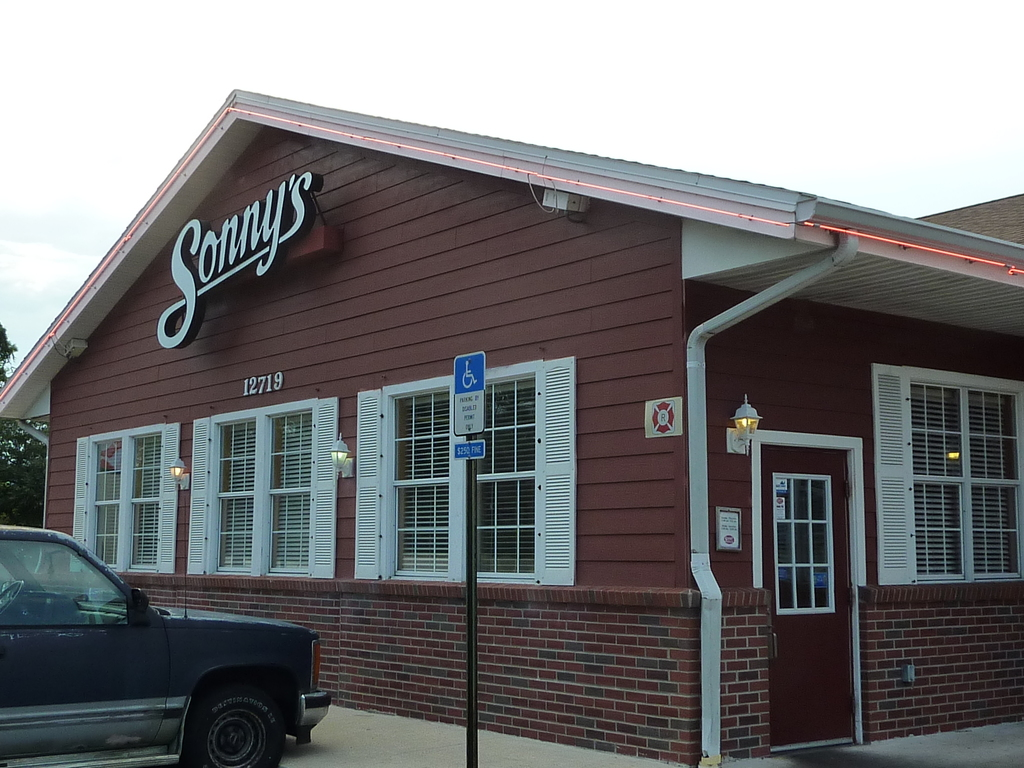Car: (0, 520, 334, 767)
